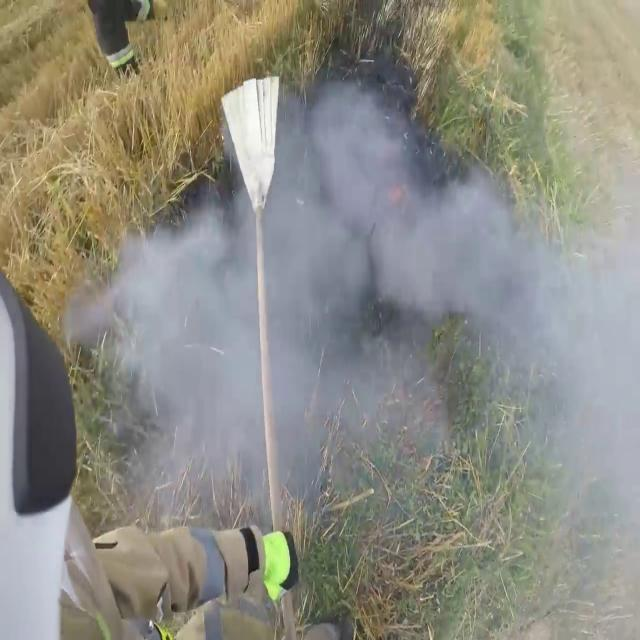Smoke: (95, 66, 629, 568), (454, 27, 640, 629)
